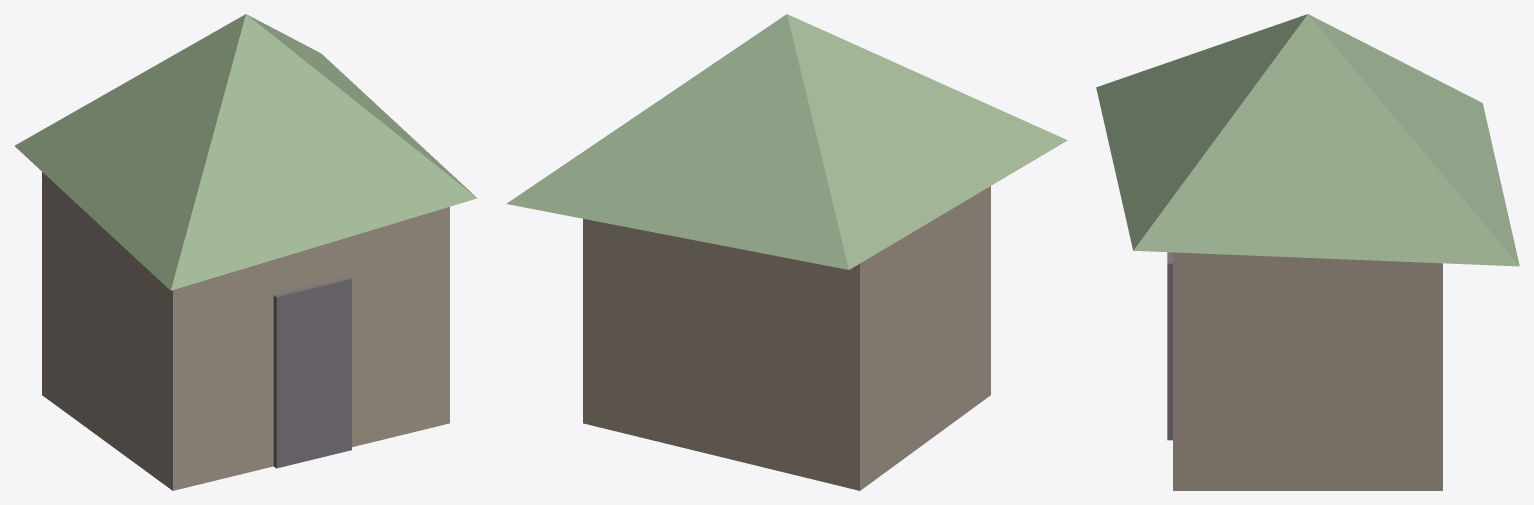
The model's file is swamp_hut.glb.
The picture shows the model from 3 angles, left to right: view 1: azimuth 30°, elevation 25°; view 2: azimuth 150°, elevation 25°; view 3: azimuth 270°, elevation 25°; orthographic projection. The views are drawn at different scales.
Visible parts, largest first — view 1: hut, roof, door; view 2: hut, roof; view 3: roof, hut, door.
Part boxes in pixels (x1=…): hut: x1=42, y1=172, x2=449, y2=490; roof: x1=14, y1=14, x2=477, y2=290; door: x1=273, y1=277, x2=351, y2=468; hut: x1=583, y1=186, x2=990, y2=490; roof: x1=506, y1=14, x2=1067, y2=269; roof: x1=1096, y1=14, x2=1519, y2=266; hut: x1=1173, y1=252, x2=1442, y2=490; door: x1=1167, y1=252, x2=1172, y2=440.
Size of the model in its own units: 2.83 by 3 by 2.83.
